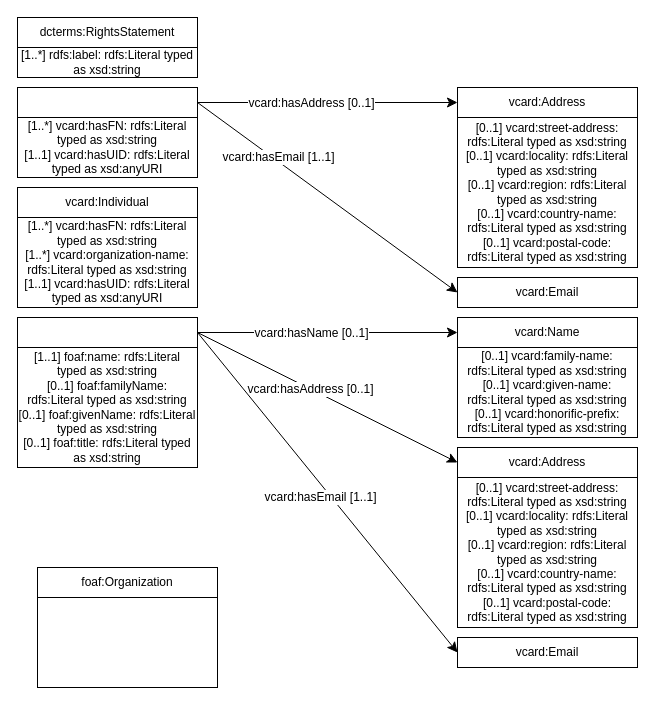
Image size: 655x705. Some labels were removed from this diagram. Each missing label, with the centre of its shape:
foaf:Person: point 107,332
vcard:Organization: point 107,102
